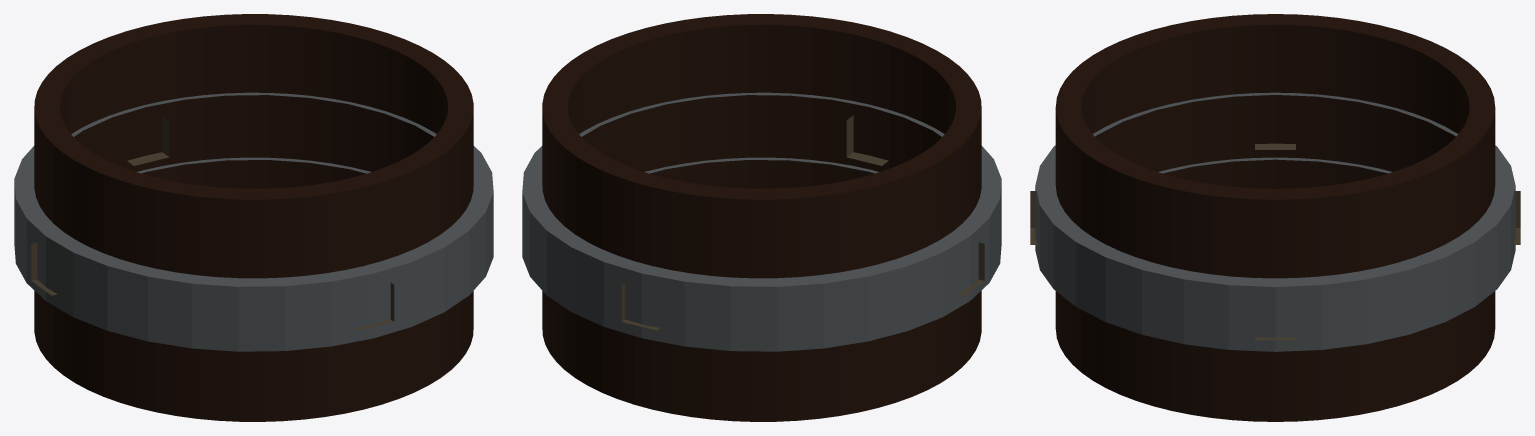
The model's file is wristband_LOD0.obj.
The picture shows the model from 3 angles, left to right: view 1: azimuth 30°, elevation 25°; view 2: azimuth 150°, elevation 25°; view 3: azimuth 270°, elevation 25°; orthographic projection.
Bounding box in the file's own units: 0.096 × 0.048 × 0.096.
